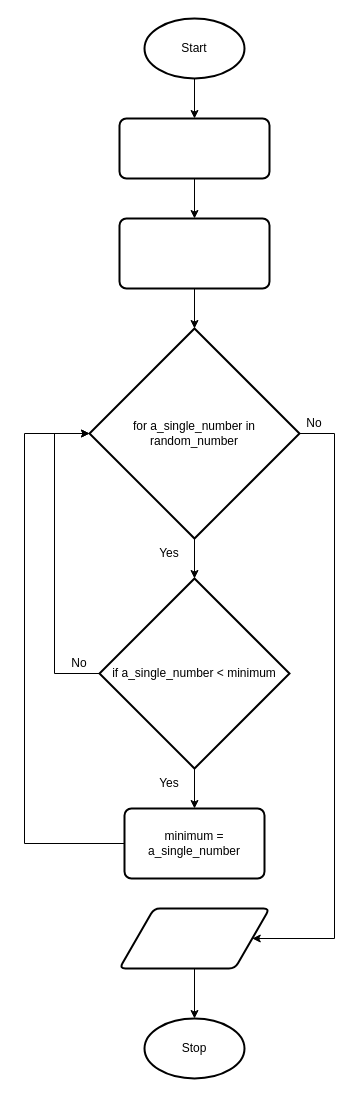
Image size: 360x1096. Some labels were removed from this diagram. The shapes that lost their labels are listed below. From the top down, each one's centre as x and y in pixels, then its label:
the point at 194,148: pass random_number
the point at 194,253: minimum = random_number[0]
the point at 194,938: return minimum
